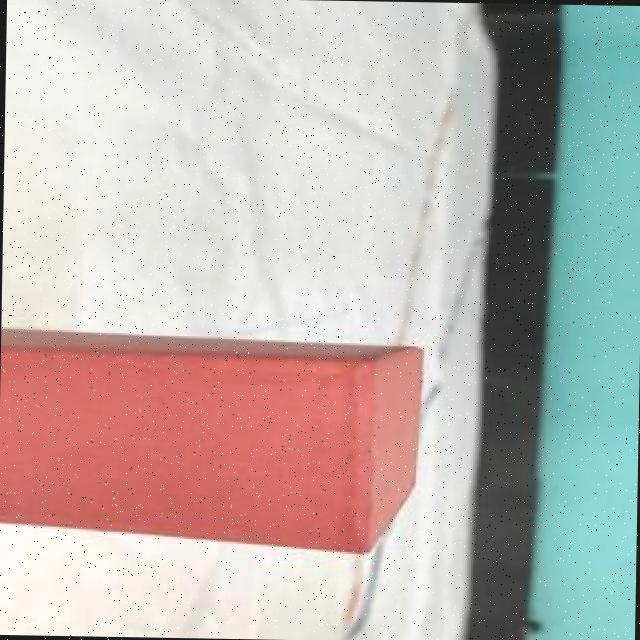redbox: (0, 324, 426, 552)
